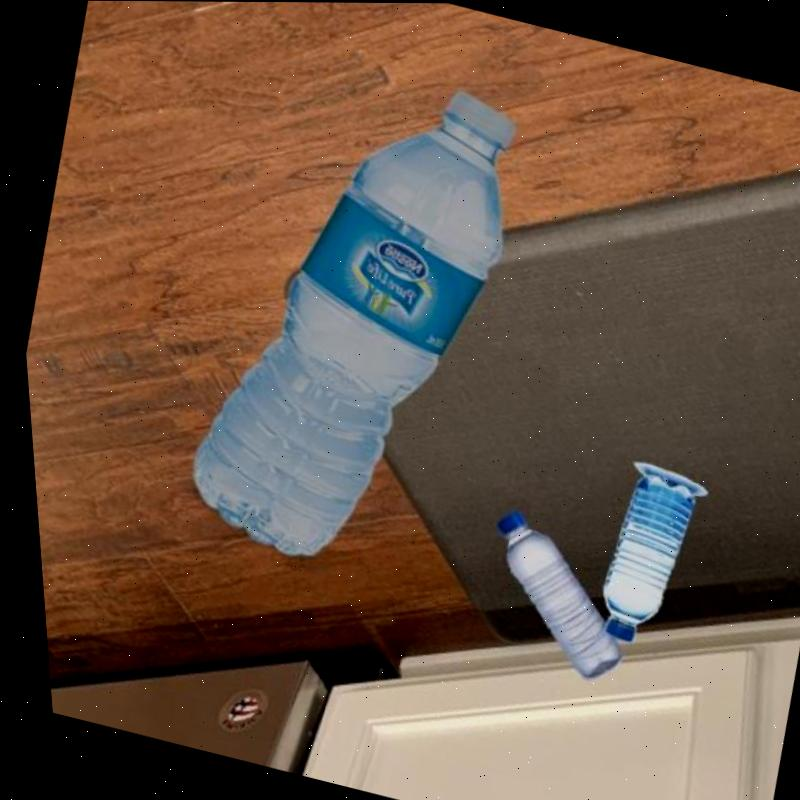botella: (138, 33, 554, 595), (454, 508, 641, 689), (570, 461, 702, 652)
